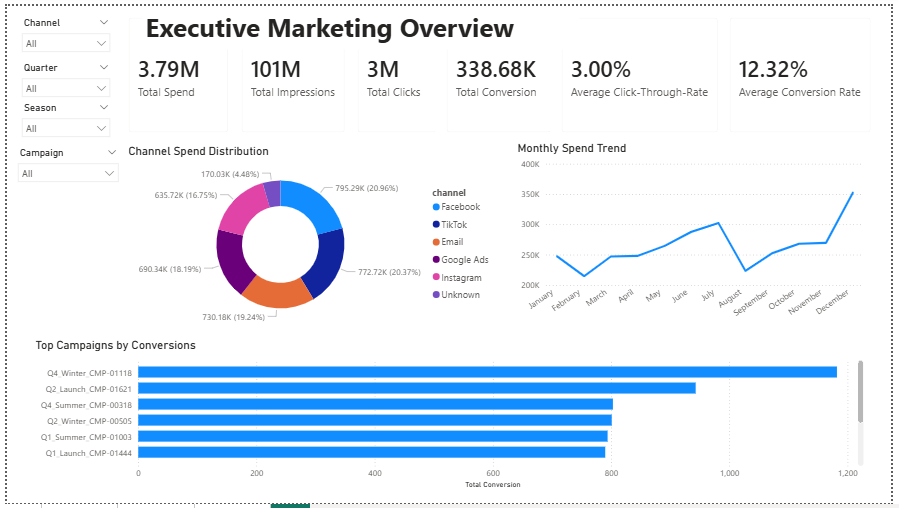

This screenshot's page, from the dashboard's own definition file:
{"tool":"powerbi","page":{"name":"Page 1","canvas":[1280,720],"ordinal":0},"visuals":[{"type":"cardVisual","fields":{"Data":["key measures.Total Spend"]},"box":[159.8,0,178.6,200.2],"z":0},{"type":"cardVisual","fields":{"Data":["key measures.Total Impressions"]},"box":[323.3,0,183.3,200],"z":1000},{"type":"cardVisual","fields":{"Data":["key measures.Total Clicks"]},"box":[491.7,0,148.3,200],"z":2000},{"type":"cardVisual","fields":{"Data":["key measures.Total Conversion"]},"box":[620,0,185,200],"z":3000},{"type":"cardVisual","fields":{"Data":["key measures.Average CTR"]},"box":[786.7,0,260,200],"z":4000},{"type":"cardVisual","fields":{"Data":["key measures.Average Conversion Rate"]},"box":[1030,0,238.3,200],"z":5000},{"type":"donutChart","title":"Channel Spend Distribution ","fields":{"Y":["key measures.Total Spend"],"Category":["public dim_channel.channel"]},"box":[171.4,200.2,541.4,272.2],"z":6000},{"type":"lineChart","title":"Monthly Spend Trend","fields":{"Category":["public monthly_trends.month.Variation.Date Hierarchy.Month"],"Y":["Sum(public monthly_trends.total_spend)"]},"box":[735,195,511.7,276.7],"z":7000},{"type":"clusteredBarChart","title":"Top Campaigns by Conversions","fields":{"Category":["public dim_campaign.campaign_name"],"Y":["key measures.Total Conversion"]},"box":[36.7,481.7,1210,223.3],"z":8000},{"type":"slicer","fields":{"Values":["public dim_channel.channel"]},"box":[11.7,11.7,148.3,65],"z":9000},{"type":"slicer","fields":{"Values":["public dim_campaign.campaign_name"]},"box":[5.8,200.2,165.6,66.2],"z":10000},{"type":"slicer","fields":{"Values":["public dim_date.quarter"]},"box":[11.7,76.7,148.3,65],"z":11000},{"type":"slicer","fields":{"Values":["public dim_campaign.season"]},"box":[11.5,135.4,148.3,64.8],"z":12000},{"type":"textbox","box":[86.4,377.3,73.4,95],"z":13000},{"type":"textbox","box":[195.8,0,633.6,63.4],"z":14000}]}

Visuals, with their boxes in screenshot pixels (x1, y1, x2, y2), scaled from the page's 1280x720 canvas onto the 899x508 screenshot:
cardVisual - key measures.Total Spend: [x1=112, y1=0, x2=238, y2=141]
cardVisual - key measures.Total Impressions: [x1=227, y1=0, x2=356, y2=141]
cardVisual - key measures.Total Clicks: [x1=345, y1=0, x2=450, y2=141]
cardVisual - key measures.Total Conversion: [x1=435, y1=0, x2=565, y2=141]
cardVisual - key measures.Average CTR: [x1=553, y1=0, x2=735, y2=141]
cardVisual - key measures.Average Conversion Rate: [x1=723, y1=0, x2=891, y2=141]
"Channel Spend Distribution " donutChart: [x1=120, y1=141, x2=501, y2=333]
"Monthly Spend Trend" lineChart: [x1=516, y1=138, x2=876, y2=333]
"Top Campaigns by Conversions" clusteredBarChart: [x1=26, y1=340, x2=876, y2=497]
slicer - public dim_channel.channel: [x1=8, y1=8, x2=112, y2=54]
slicer - public dim_campaign.campaign_name: [x1=4, y1=141, x2=120, y2=188]
slicer - public dim_date.quarter: [x1=8, y1=54, x2=112, y2=100]
slicer - public dim_campaign.season: [x1=8, y1=96, x2=112, y2=141]
textbox: [x1=61, y1=266, x2=112, y2=333]
textbox: [x1=138, y1=0, x2=583, y2=45]
